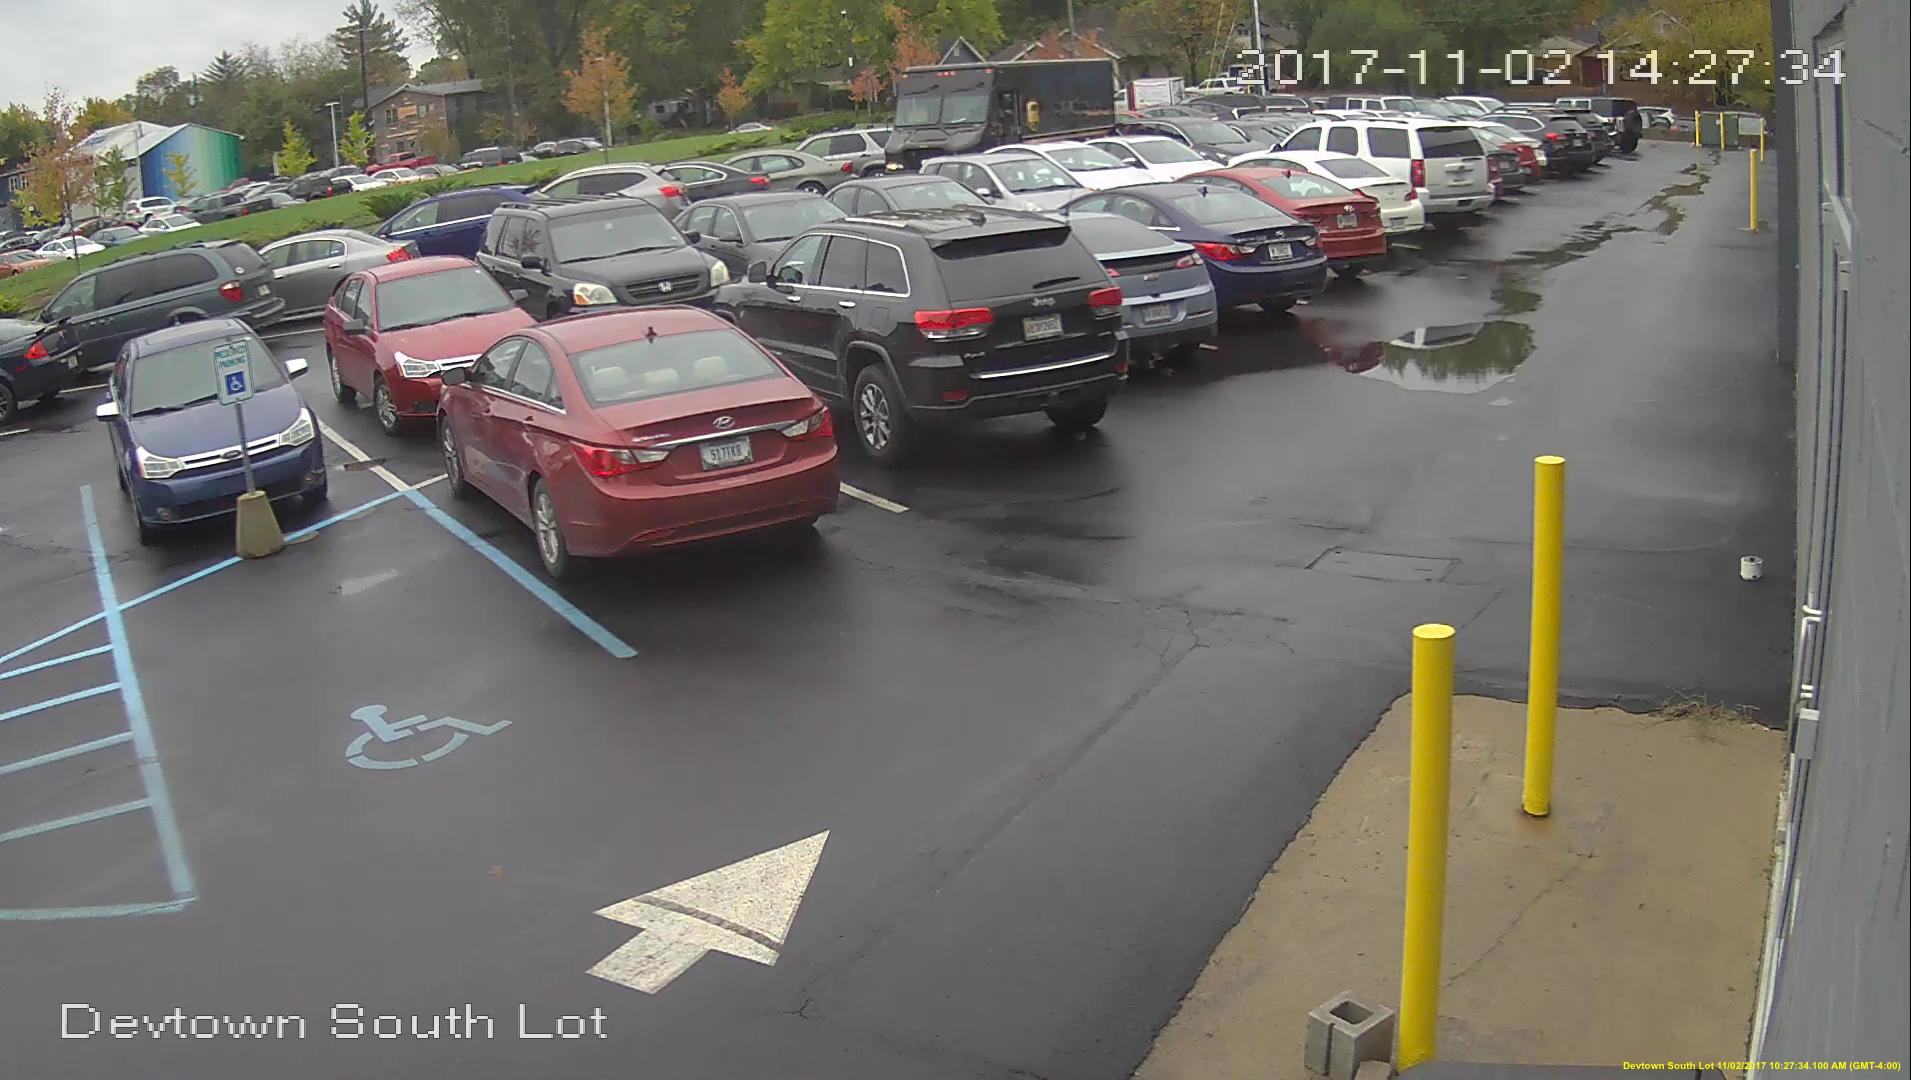ups_truck: (882, 60, 1116, 154)
